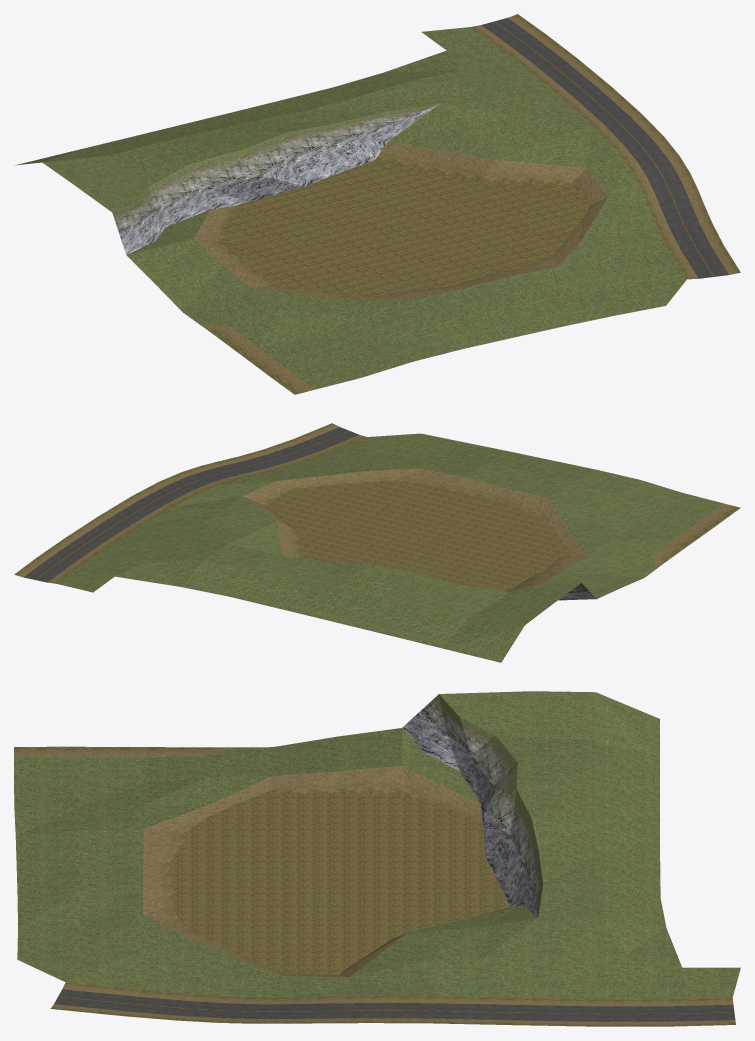
Rendered from se_bit_01.obj.
3 views of the same model, one above another, from view 1: azimuth 30°, elevation 25°; view 2: azimuth 150°, elevation 25°; view 3: azimuth 270°, elevation 25° (orthographic). The views are drawn at different scales.
Visible parts, largest first — view 1: se_bit_01; view 2: se_bit_01; view 3: se_bit_01.
Boxes of the visible parts, <box> form: se_bit_01: <box>15,14,740,394</box>; se_bit_01: <box>14,423,740,662</box>; se_bit_01: <box>14,691,740,1026</box>.
Bounding box in the file's own units: 236 × 21.49 × 240.
9 materials, 9 textured.
